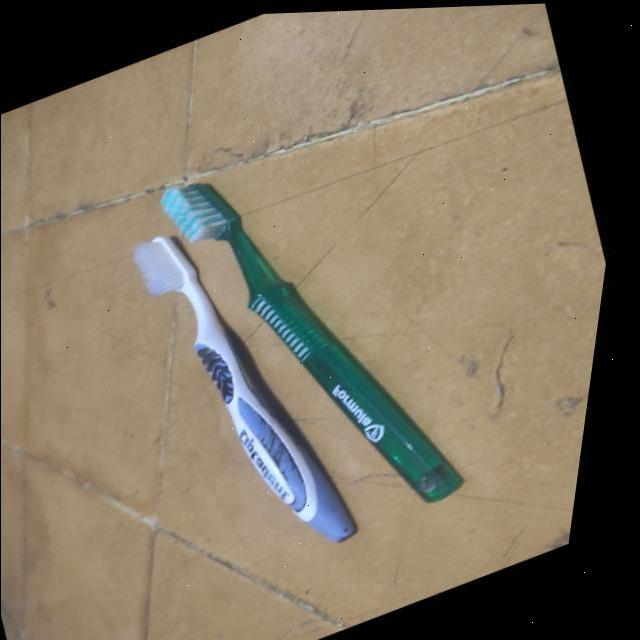toothbrush: (90, 72, 552, 604), (62, 166, 454, 640)
